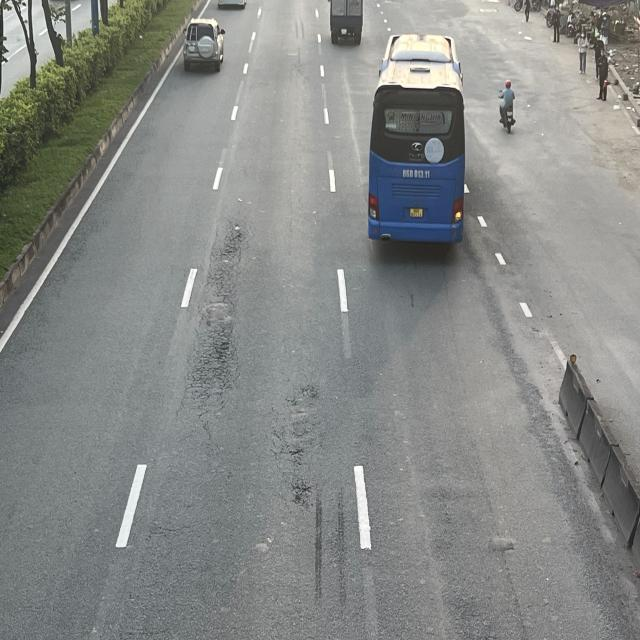car: (183, 19, 227, 72)
coach: (368, 34, 468, 248)
truck: (329, 0, 366, 44)
